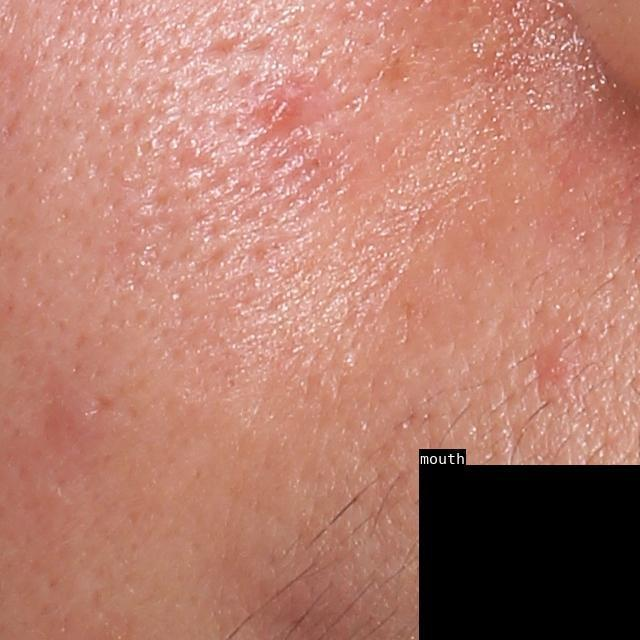atrophic_scar: (88, 393, 119, 417)
papule: (259, 94, 296, 135), (532, 351, 574, 384)
